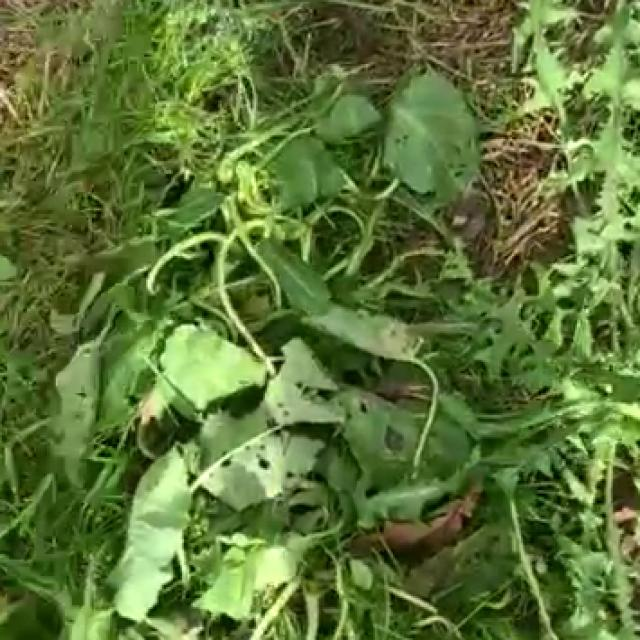organic waste: (90, 77, 557, 589)
